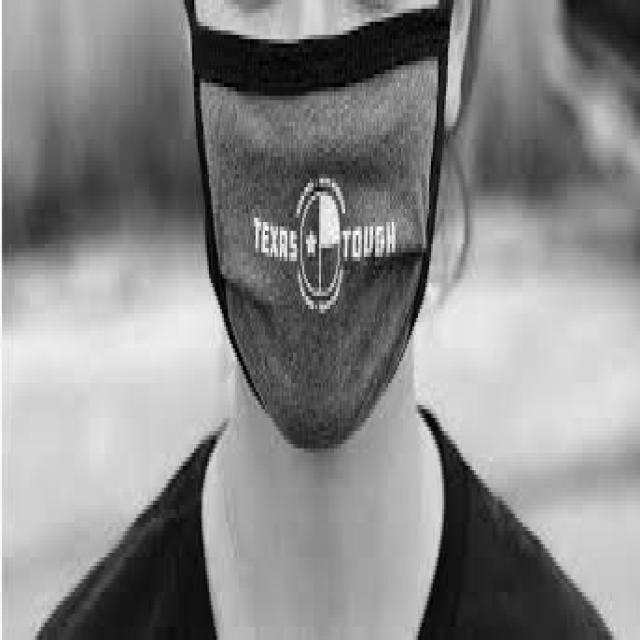fake: (183, 0, 463, 483)
